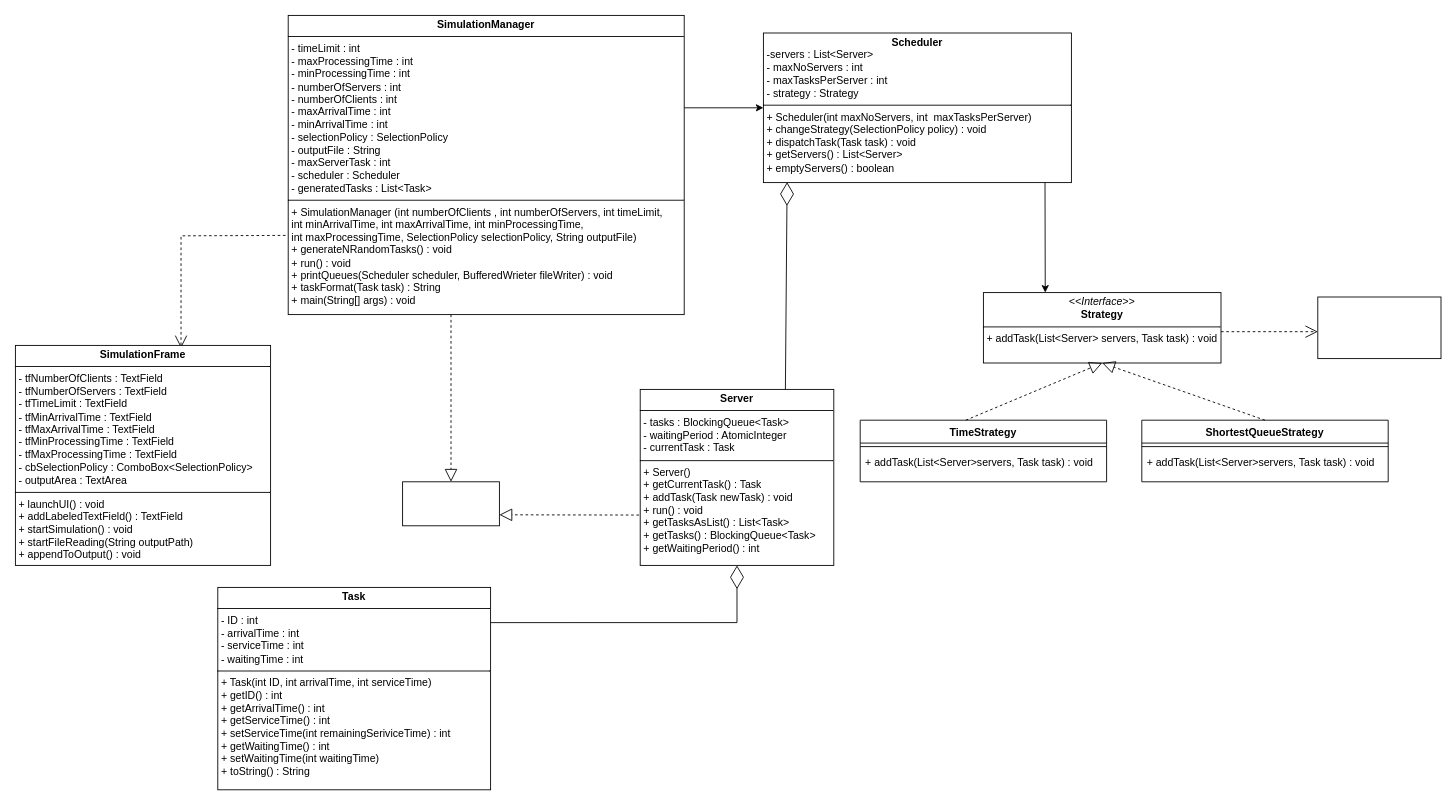
Image size: 1456x805. Some labels were removed from this diagram. Each missing label, with the centre of its shape:
"SelectionPolicy SHORTEST_TIME SHORTEST_QUEUE" goes at (1379,327).
"«interface» Runnable" goes at (450,503).
